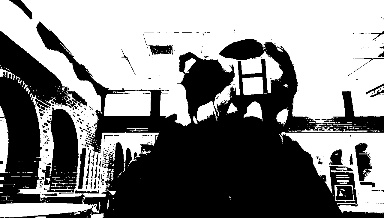H: (233, 58, 270, 94)
